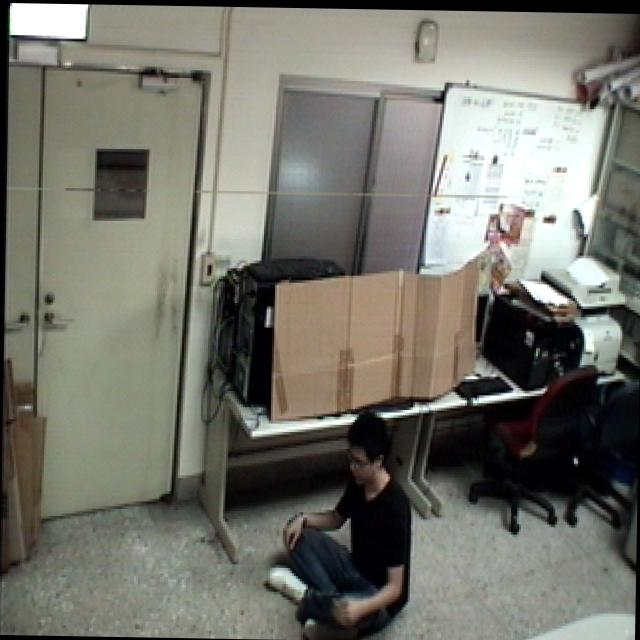sit: (261, 405, 420, 640)
